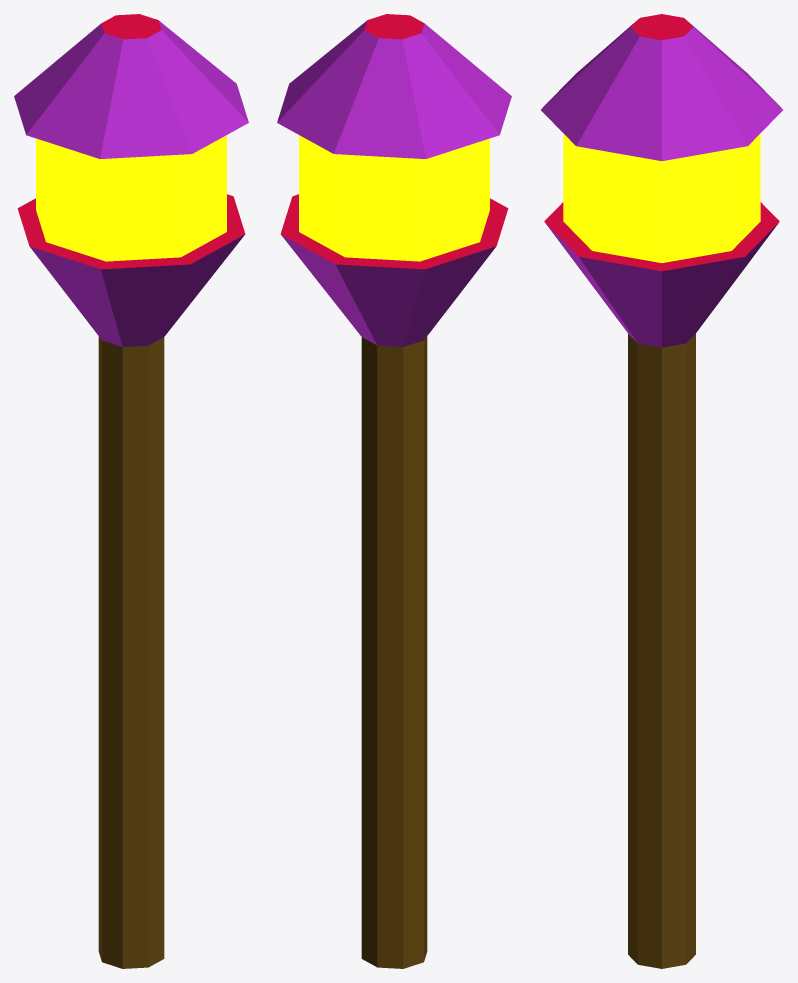
The model's file is lantaarntje.glb.
3 renders of one model, left to right at view 1: azimuth 30°, elevation 25°; view 2: azimuth 150°, elevation 25°; view 3: azimuth 270°, elevation 25°, orthographic.
Visible parts, largest first — view 1: Lantaarnpaal; view 2: Lantaarnpaal; view 3: Lantaarnpaal.
Boxes of the visible parts, bbox=[...] form: Lantaarnpaal: bbox=[14, 14, 248, 968]; Lantaarnpaal: bbox=[277, 14, 511, 968]; Lantaarnpaal: bbox=[541, 14, 782, 968].
Size of the model in its own units: 1.39 by 5.87 by 1.39.
